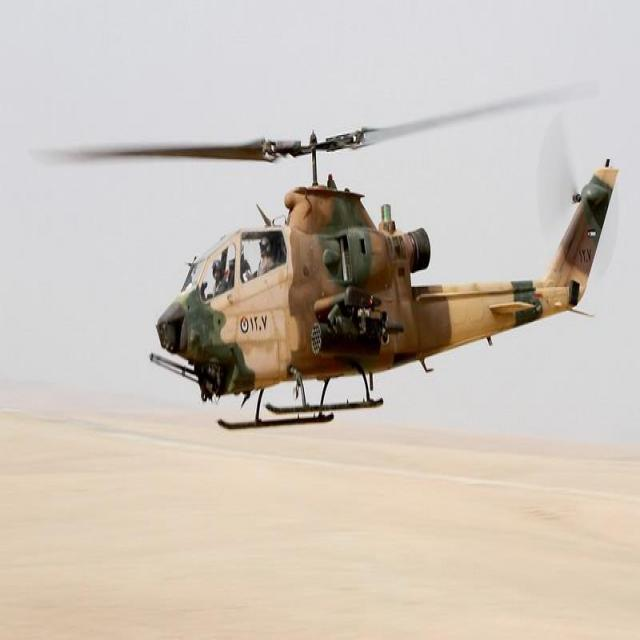MIL_HELO: (47, 65, 640, 420)
